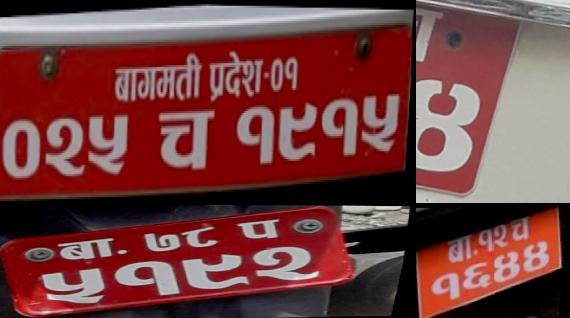0: (0, 111, 47, 187), (266, 53, 287, 96)
1: (233, 98, 281, 171), (111, 256, 190, 300), (318, 94, 364, 166), (430, 270, 466, 303), (282, 50, 302, 97), (477, 225, 496, 255)
2: (40, 110, 92, 188), (249, 244, 333, 283), (492, 222, 512, 248)
4: (416, 62, 492, 172), (490, 249, 522, 283), (522, 238, 552, 274)
5: (84, 107, 134, 185), (29, 267, 115, 306), (358, 88, 405, 158)
6: (464, 260, 495, 292)
7: (139, 230, 186, 254)
8: (180, 224, 228, 250)
9: (275, 96, 324, 168), (175, 250, 260, 291)
ba: (52, 236, 128, 264), (111, 60, 141, 106), (445, 232, 477, 261)
cha: (152, 99, 221, 180), (416, 0, 452, 65), (508, 213, 534, 242)
pa: (230, 217, 293, 243)
